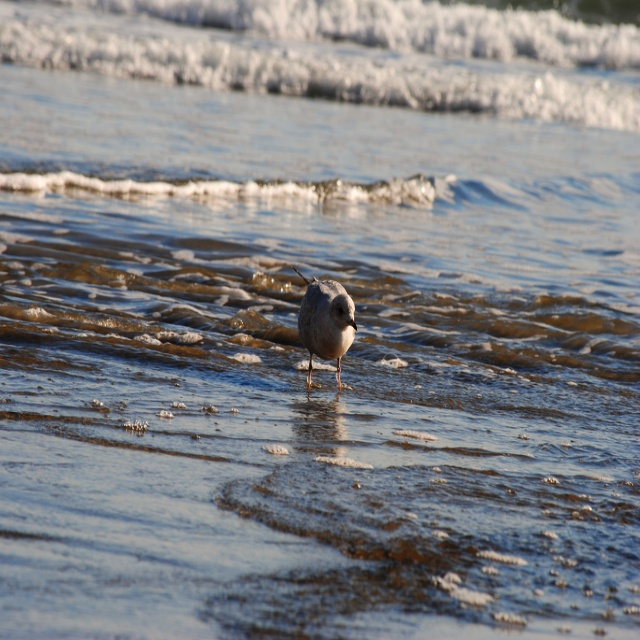Duck: (286, 272, 354, 377)
